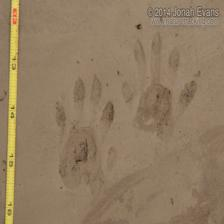raccoon: (114, 34, 201, 142), (46, 76, 124, 191)
